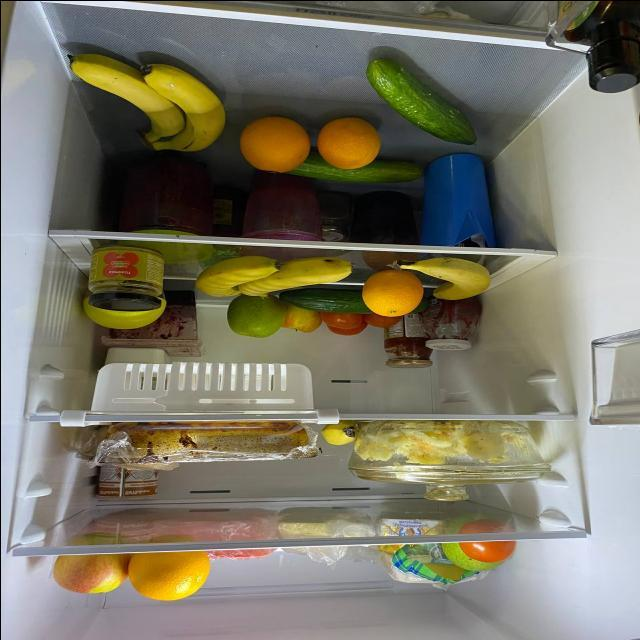Apple: (44, 531, 134, 602), (436, 523, 504, 570), (221, 297, 287, 337), (272, 307, 322, 337)
Banana: (62, 56, 174, 156), (150, 64, 222, 155), (234, 260, 360, 298), (392, 260, 496, 302), (200, 253, 280, 300), (316, 416, 366, 449)
Cucumber: (362, 53, 478, 145), (276, 288, 392, 313), (274, 162, 436, 178)
Orange: (126, 541, 212, 600), (232, 118, 312, 172), (314, 120, 376, 169), (361, 271, 427, 315)
Tomato: (462, 519, 518, 560), (360, 305, 402, 330), (322, 309, 362, 328), (324, 319, 368, 334)
